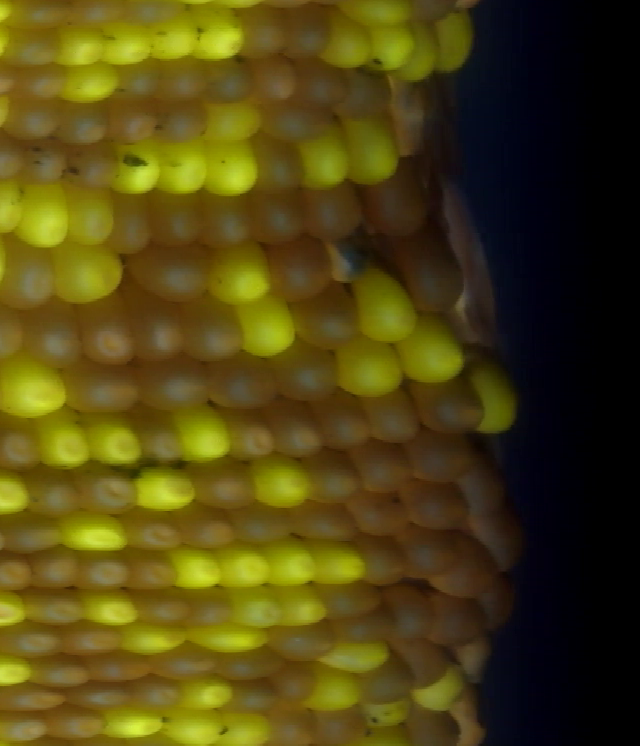fluorescent: (355, 265, 422, 350), (45, 237, 125, 301), (328, 339, 408, 396), (2, 351, 70, 418), (404, 314, 471, 382), (193, 133, 260, 196), (12, 181, 75, 248), (211, 239, 274, 304), (235, 290, 296, 356), (345, 116, 402, 186), (32, 411, 93, 471), (176, 401, 234, 464), (190, 7, 249, 65), (472, 365, 517, 441), (155, 139, 216, 195), (250, 451, 314, 503), (54, 513, 134, 554), (187, 613, 269, 653), (90, 413, 146, 471), (311, 535, 367, 591), (260, 535, 314, 591), (133, 464, 195, 511), (316, 17, 372, 69), (303, 129, 350, 190), (369, 17, 418, 75), (303, 664, 359, 714), (164, 706, 234, 746), (66, 185, 113, 244), (322, 637, 395, 674), (60, 60, 124, 102), (104, 702, 165, 746), (117, 138, 162, 197), (407, 669, 470, 711), (77, 585, 141, 625), (117, 620, 188, 656), (169, 544, 223, 591), (222, 541, 270, 593), (401, 24, 443, 83), (204, 101, 265, 140), (434, 9, 471, 70), (276, 583, 327, 627), (180, 675, 238, 713), (56, 23, 108, 65), (107, 19, 154, 64), (234, 590, 290, 627), (150, 12, 192, 61), (0, 177, 32, 237), (224, 707, 270, 746), (0, 461, 33, 513), (362, 692, 412, 725), (0, 653, 37, 687)
nonfluorescent: (397, 232, 472, 303), (360, 171, 438, 235), (134, 243, 217, 303), (204, 351, 286, 411), (135, 287, 197, 366), (24, 299, 85, 375), (277, 339, 350, 402), (77, 295, 140, 365), (187, 293, 248, 362), (269, 237, 334, 301), (0, 241, 62, 308), (299, 180, 364, 243), (71, 365, 148, 417), (411, 378, 481, 434), (78, 459, 143, 519), (265, 395, 325, 457), (193, 460, 259, 514), (402, 523, 467, 577), (467, 501, 520, 566), (67, 139, 137, 187), (409, 430, 476, 480), (220, 406, 281, 460), (199, 192, 256, 249), (366, 387, 422, 445), (246, 193, 307, 246), (291, 499, 364, 543), (319, 390, 371, 451), (145, 362, 212, 409), (362, 534, 418, 588), (201, 51, 258, 104), (143, 193, 201, 245), (376, 581, 429, 637), (443, 538, 497, 592), (6, 90, 61, 143), (348, 61, 395, 123), (25, 462, 76, 519), (360, 437, 412, 492), (254, 134, 303, 192), (311, 451, 364, 504), (283, 3, 329, 64), (404, 482, 469, 525), (432, 586, 481, 643), (106, 95, 160, 146), (155, 59, 213, 106), (109, 187, 149, 255), (40, 704, 109, 743), (399, 703, 466, 743), (233, 502, 291, 548), (0, 677, 72, 714), (4, 512, 64, 556), (32, 544, 88, 591), (269, 101, 328, 145), (16, 57, 72, 103), (158, 643, 225, 681), (298, 64, 351, 112), (80, 646, 151, 681), (0, 413, 38, 477), (60, 96, 111, 143), (356, 491, 407, 538), (28, 649, 91, 687), (178, 507, 233, 550), (6, 23, 62, 65), (237, 6, 283, 57), (9, 624, 74, 659), (253, 57, 298, 107), (59, 680, 124, 714), (119, 678, 180, 714), (129, 508, 180, 551), (81, 551, 135, 591), (137, 587, 193, 625), (228, 669, 278, 711), (407, 632, 444, 688), (116, 56, 164, 98), (218, 644, 280, 676), (33, 588, 82, 628), (320, 580, 383, 611), (0, 135, 39, 185), (272, 707, 325, 743), (277, 660, 320, 704), (0, 709, 51, 745), (132, 548, 177, 588), (32, 141, 70, 186), (67, 625, 124, 655), (462, 467, 504, 506), (281, 620, 327, 655), (480, 583, 514, 629), (0, 546, 34, 591), (319, 707, 358, 746), (185, 583, 230, 612)
